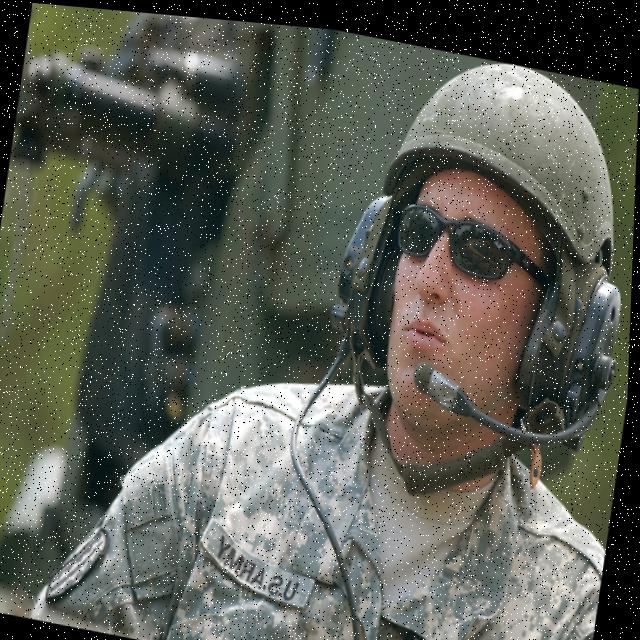illegal_helmet: (307, 25, 640, 526)
